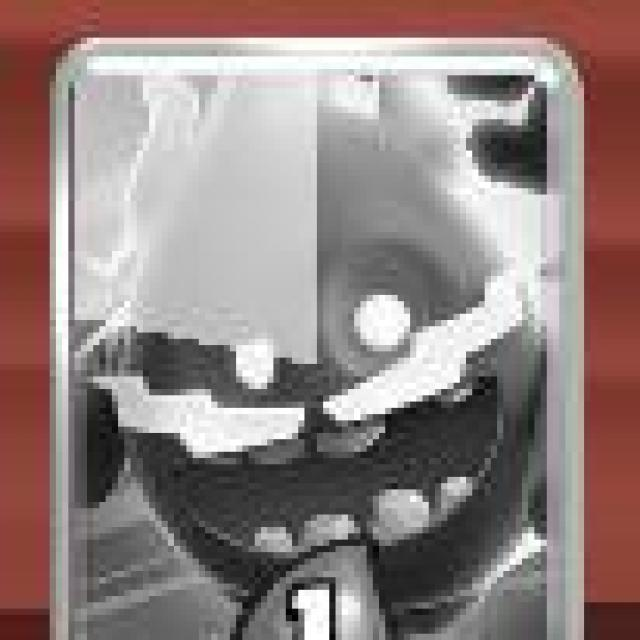Electro_Spirit: (51, 35, 590, 640)
